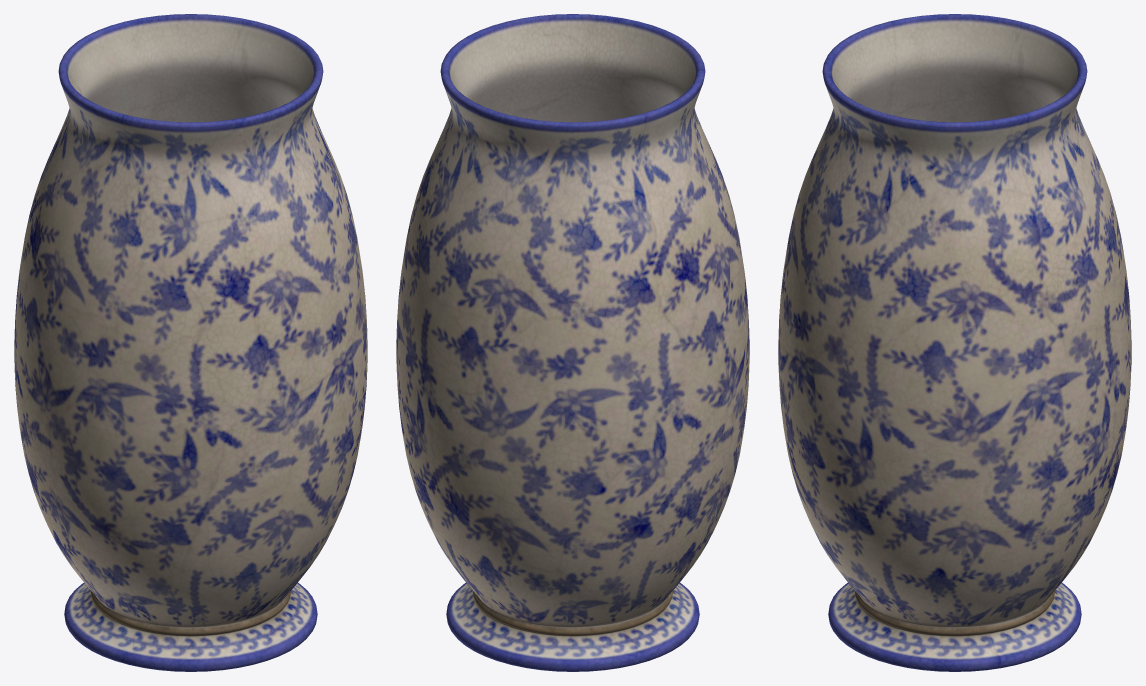
File: antique_ceramic_vase_01_4k-v2.glb
The picture shows the model from 3 angles, left to right: view 1: azimuth 30°, elevation 25°; view 2: azimuth 150°, elevation 25°; view 3: azimuth 270°, elevation 25°; orthographic projection.
Visible parts, largest first — view 1: antique_ceramic_vase_01; view 2: antique_ceramic_vase_01; view 3: antique_ceramic_vase_01.
Boxes of the visible parts, x1,y1,x2,y2 form: antique_ceramic_vase_01: [14, 14, 367, 671]; antique_ceramic_vase_01: [396, 14, 749, 671]; antique_ceramic_vase_01: [778, 14, 1131, 671].
Size of the model in its own units: 0.255 by 0.4396 by 0.255.
Materials: 1 (1 with a texture image).
